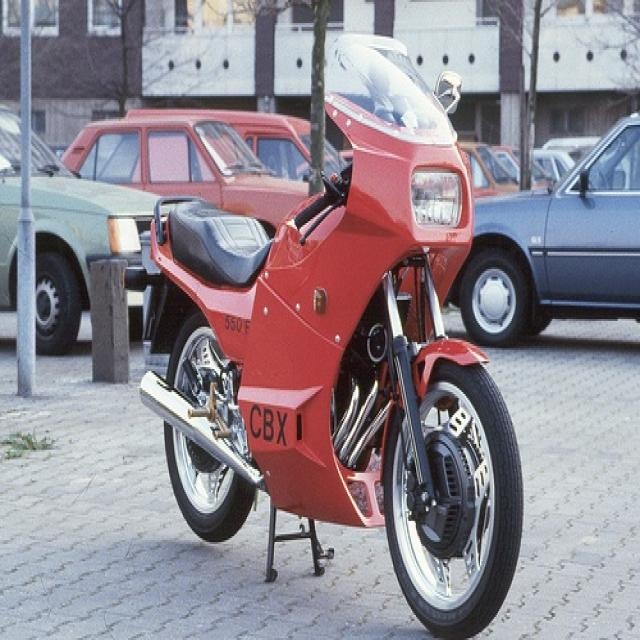car: (453, 102, 636, 342), (1, 100, 173, 346), (54, 111, 321, 246)
motorbike: (134, 31, 520, 634)
